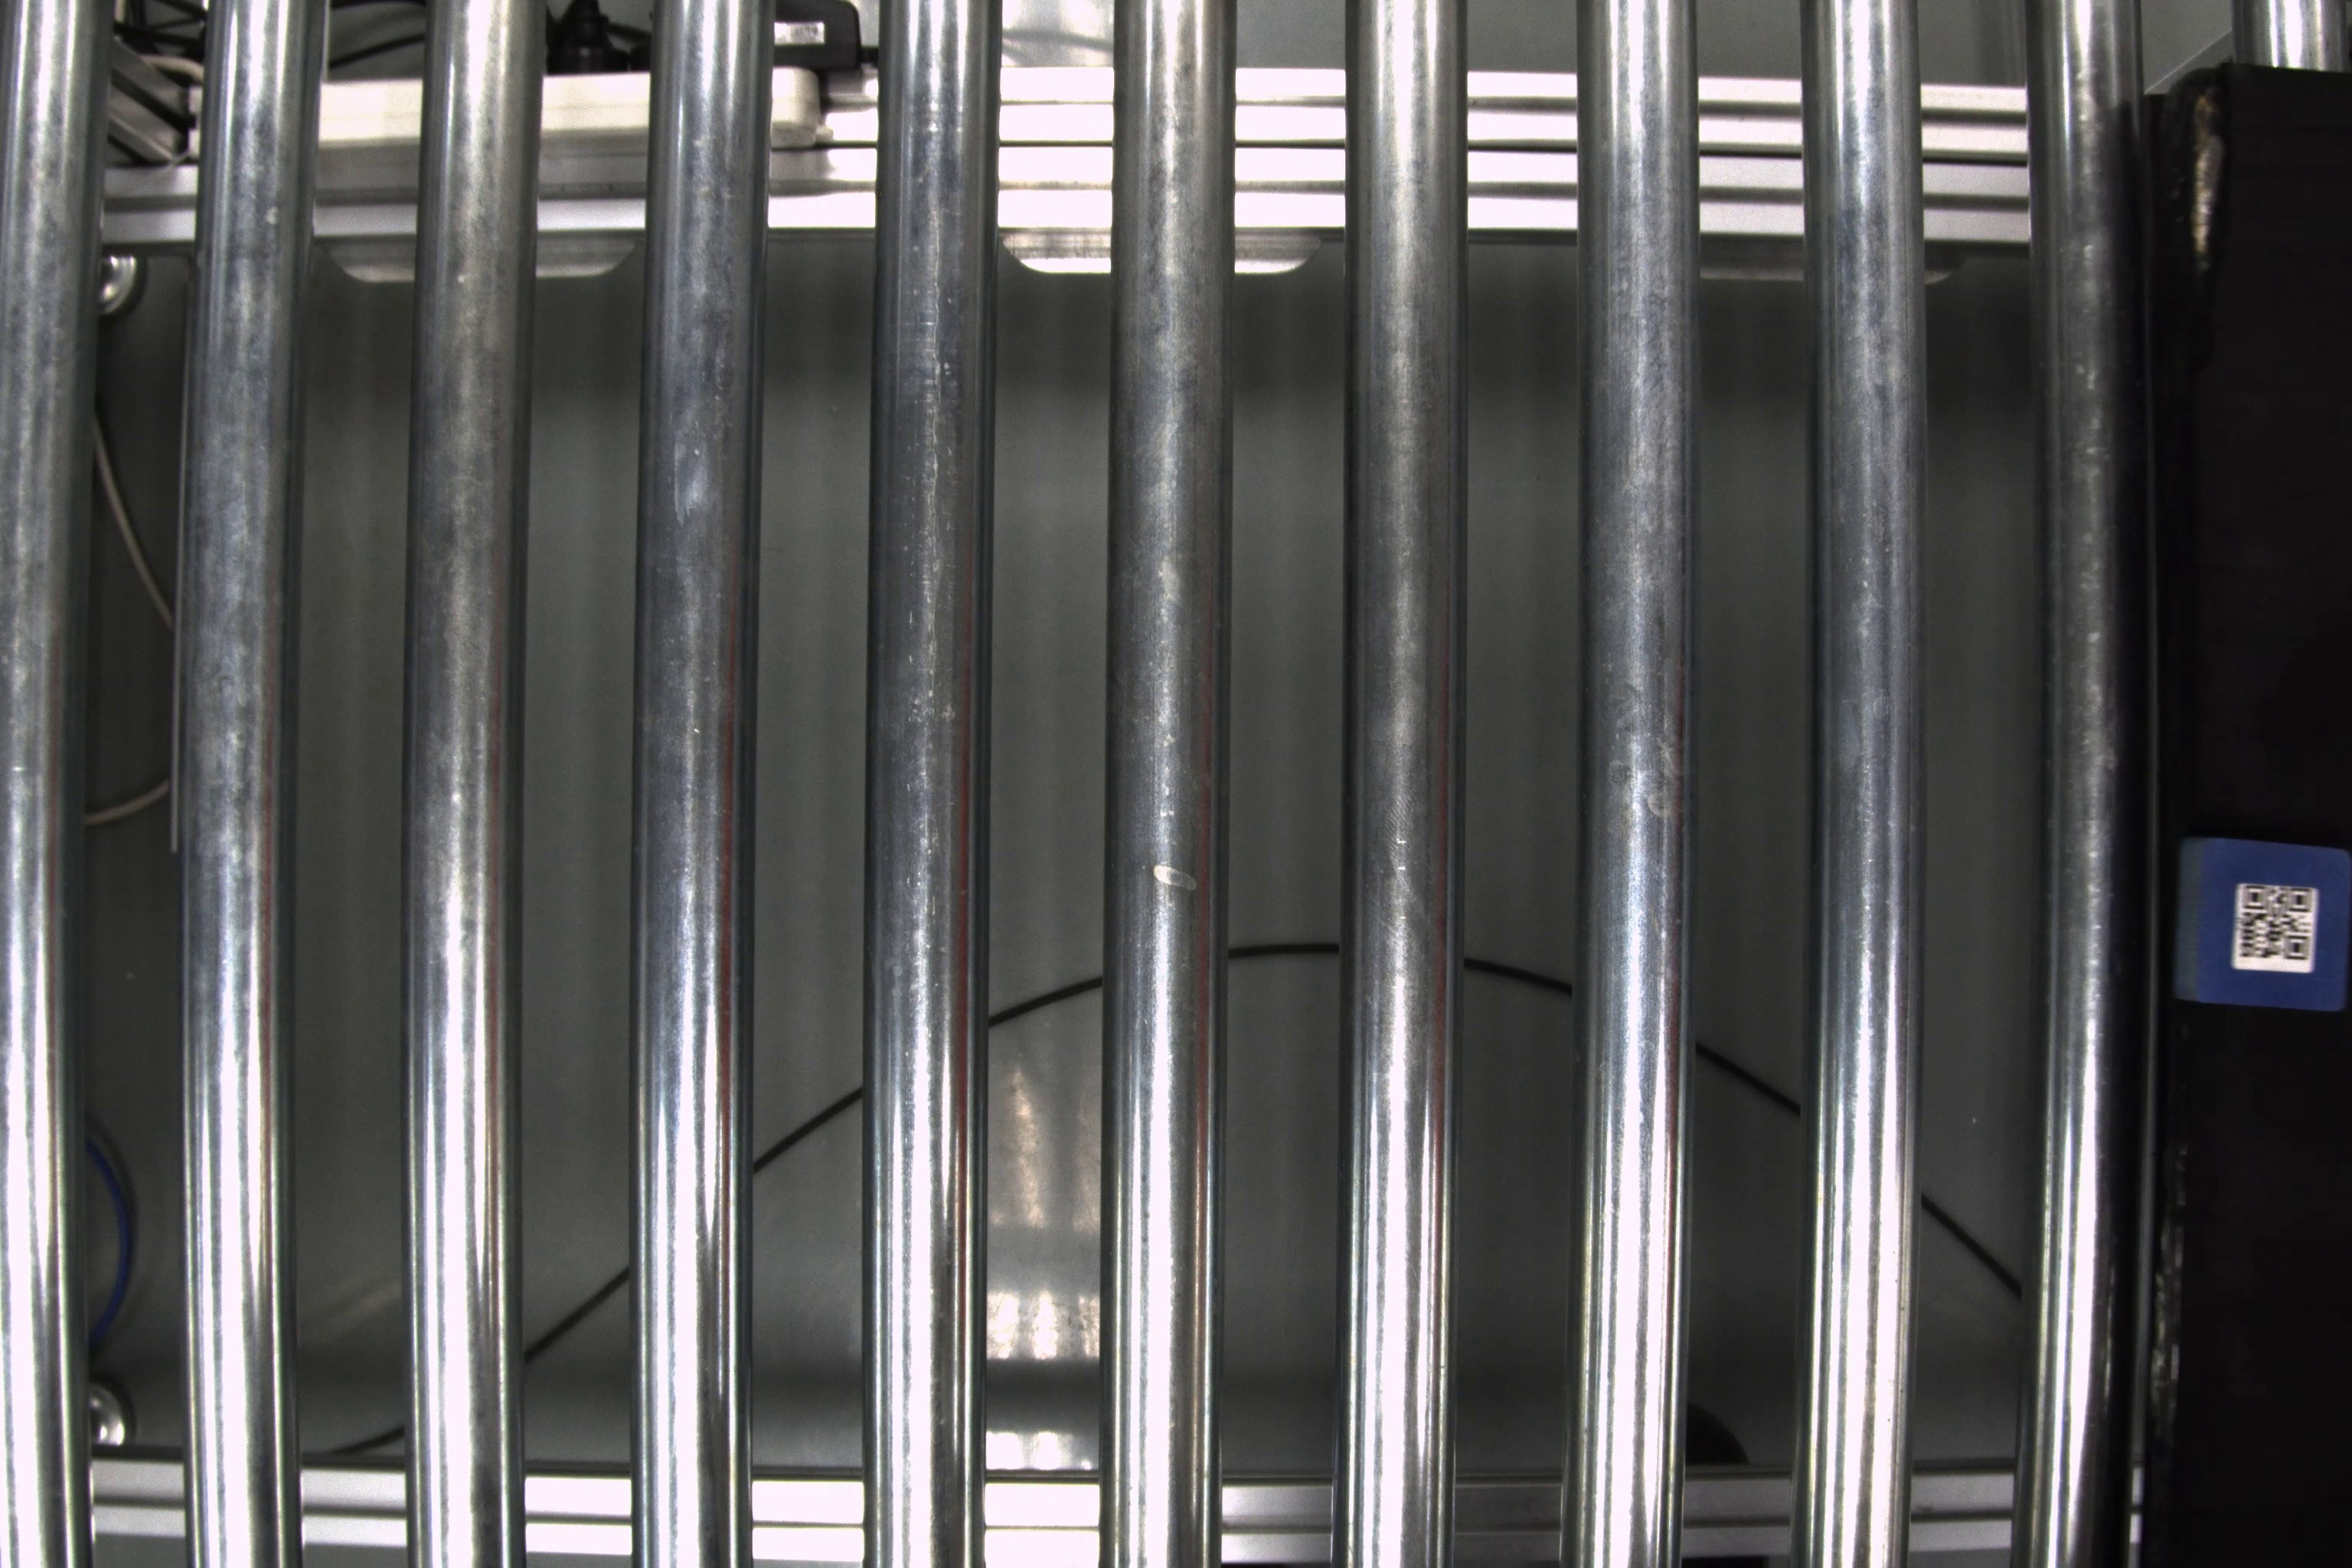wood: (2170, 829, 2348, 1015)
